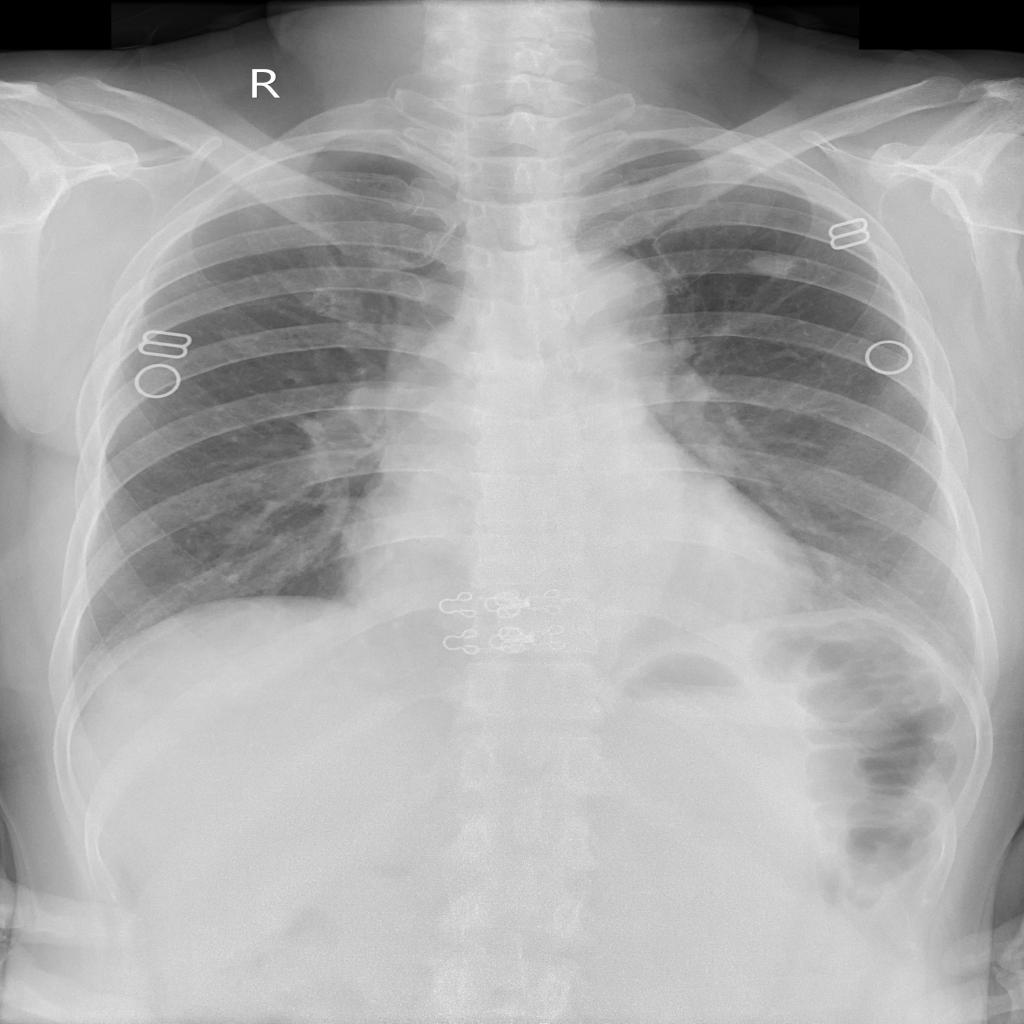Nodule: (738, 247, 805, 285)
